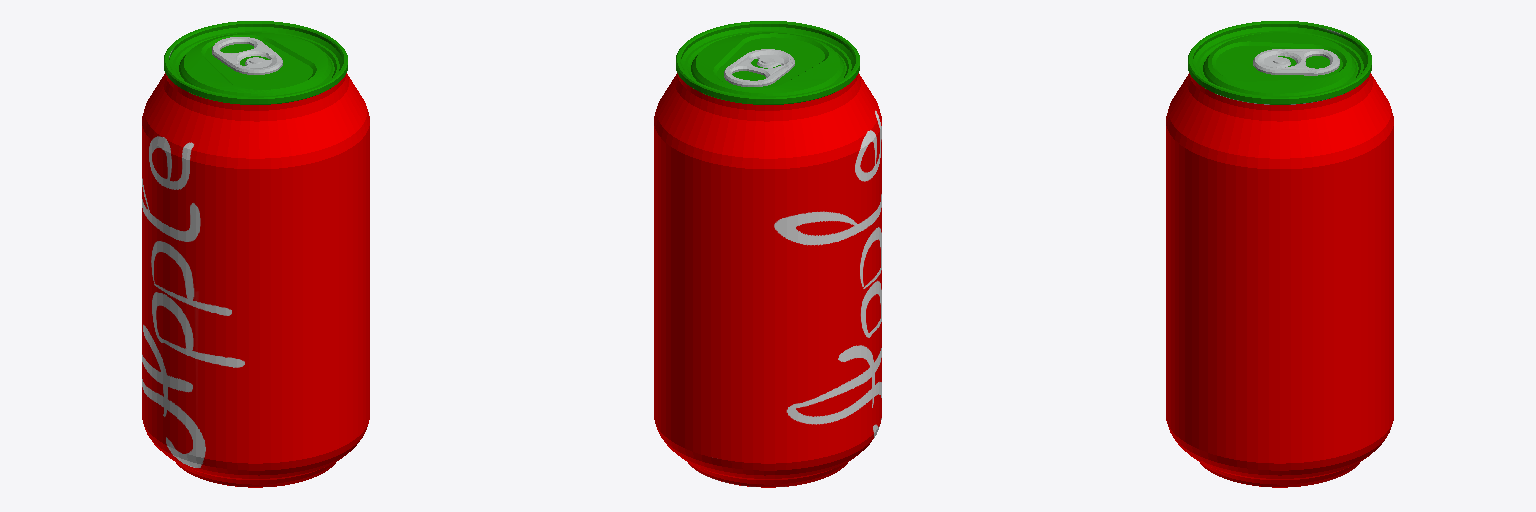
3 renders of one model, left to right at view 1: azimuth 30°, elevation 25°; view 2: azimuth 150°, elevation 25°; view 3: azimuth 270°, elevation 25°, orthographic.
Parts seen in each view (by area): view 1: submesh, submesh_1, submesh_2; view 2: submesh, submesh_1, submesh_2; view 3: submesh, submesh_1, submesh_2.
Part boxes in pixels (x1,y1,x2,y2): submesh: (142, 73, 369, 487); submesh_1: (164, 21, 347, 104); submesh_2: (212, 37, 282, 74); submesh: (654, 73, 881, 487); submesh_1: (676, 21, 859, 104); submesh_2: (724, 49, 794, 86); submesh: (1166, 73, 1393, 487); submesh_1: (1188, 21, 1371, 104); submesh_2: (1253, 49, 1339, 75).
Bounding box in the file's own units: 0.1221 × 0.2323 × 0.1221.
2 materials, 2 textured.